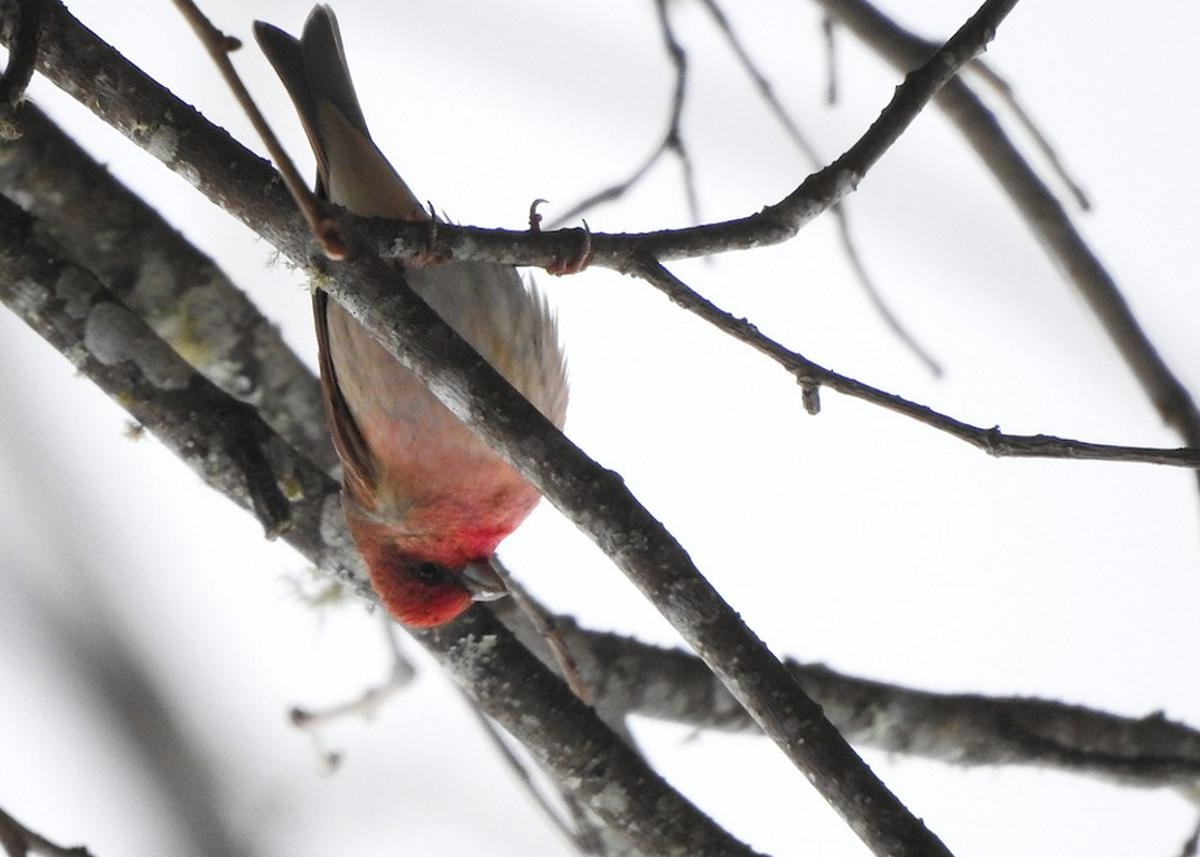rosefinch: (354, 156, 583, 640)
